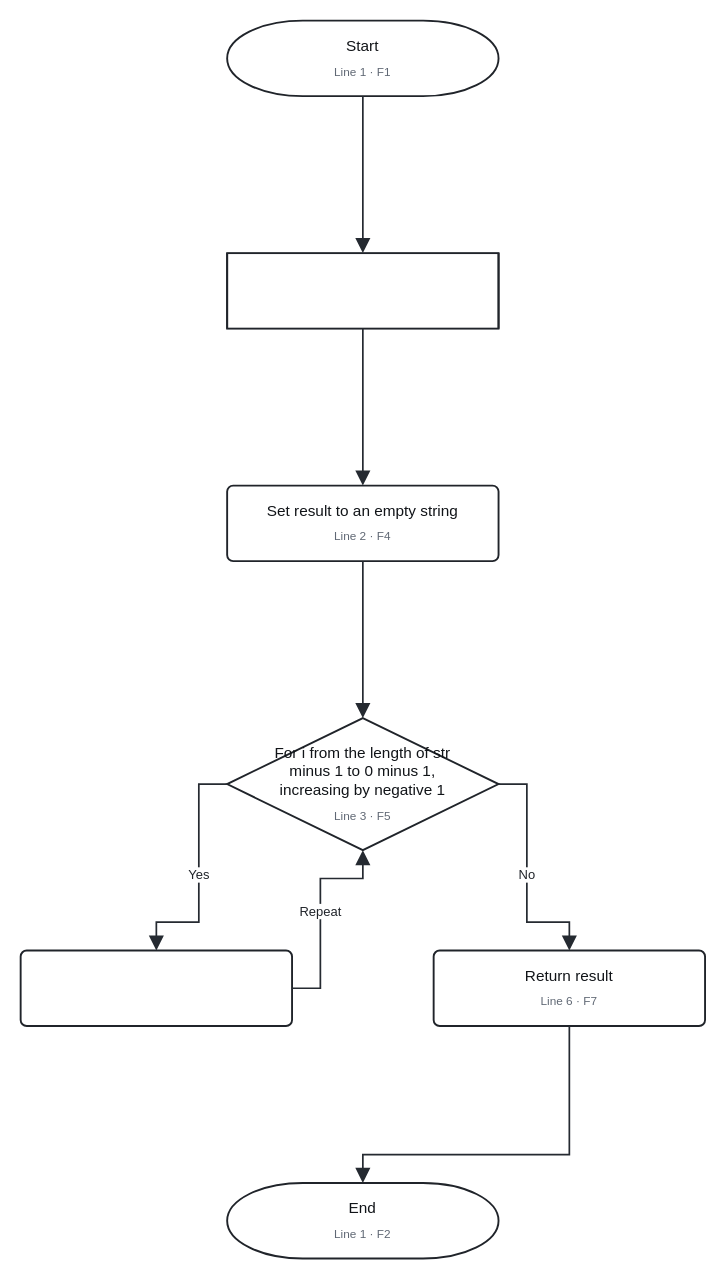
Some shapes in this 727 by 1280 pixel diagram are drawn without their labels. Each missing label, with the centre of its shape:
"Run function reverseString with str Line 1 · F3" belongs at [362,290].
"Set result to result plus item i of str Line 4 · F6" belongs at [155,987].
